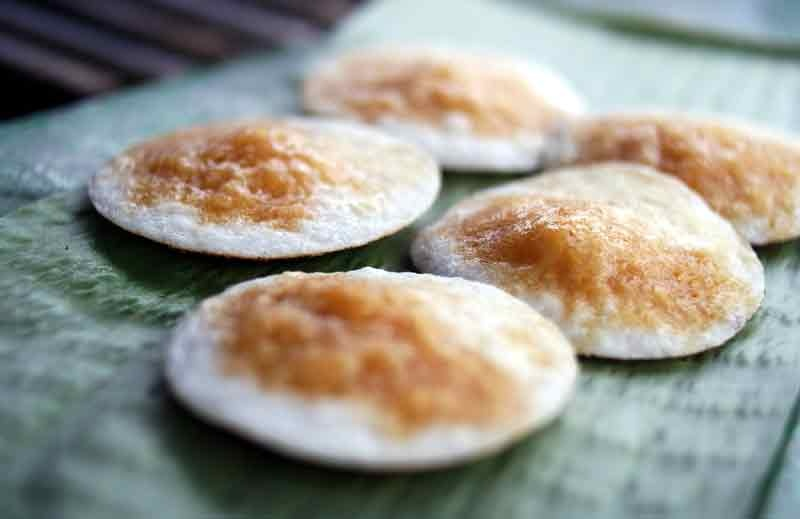srabi: (424, 151, 774, 372), (74, 99, 447, 266)
